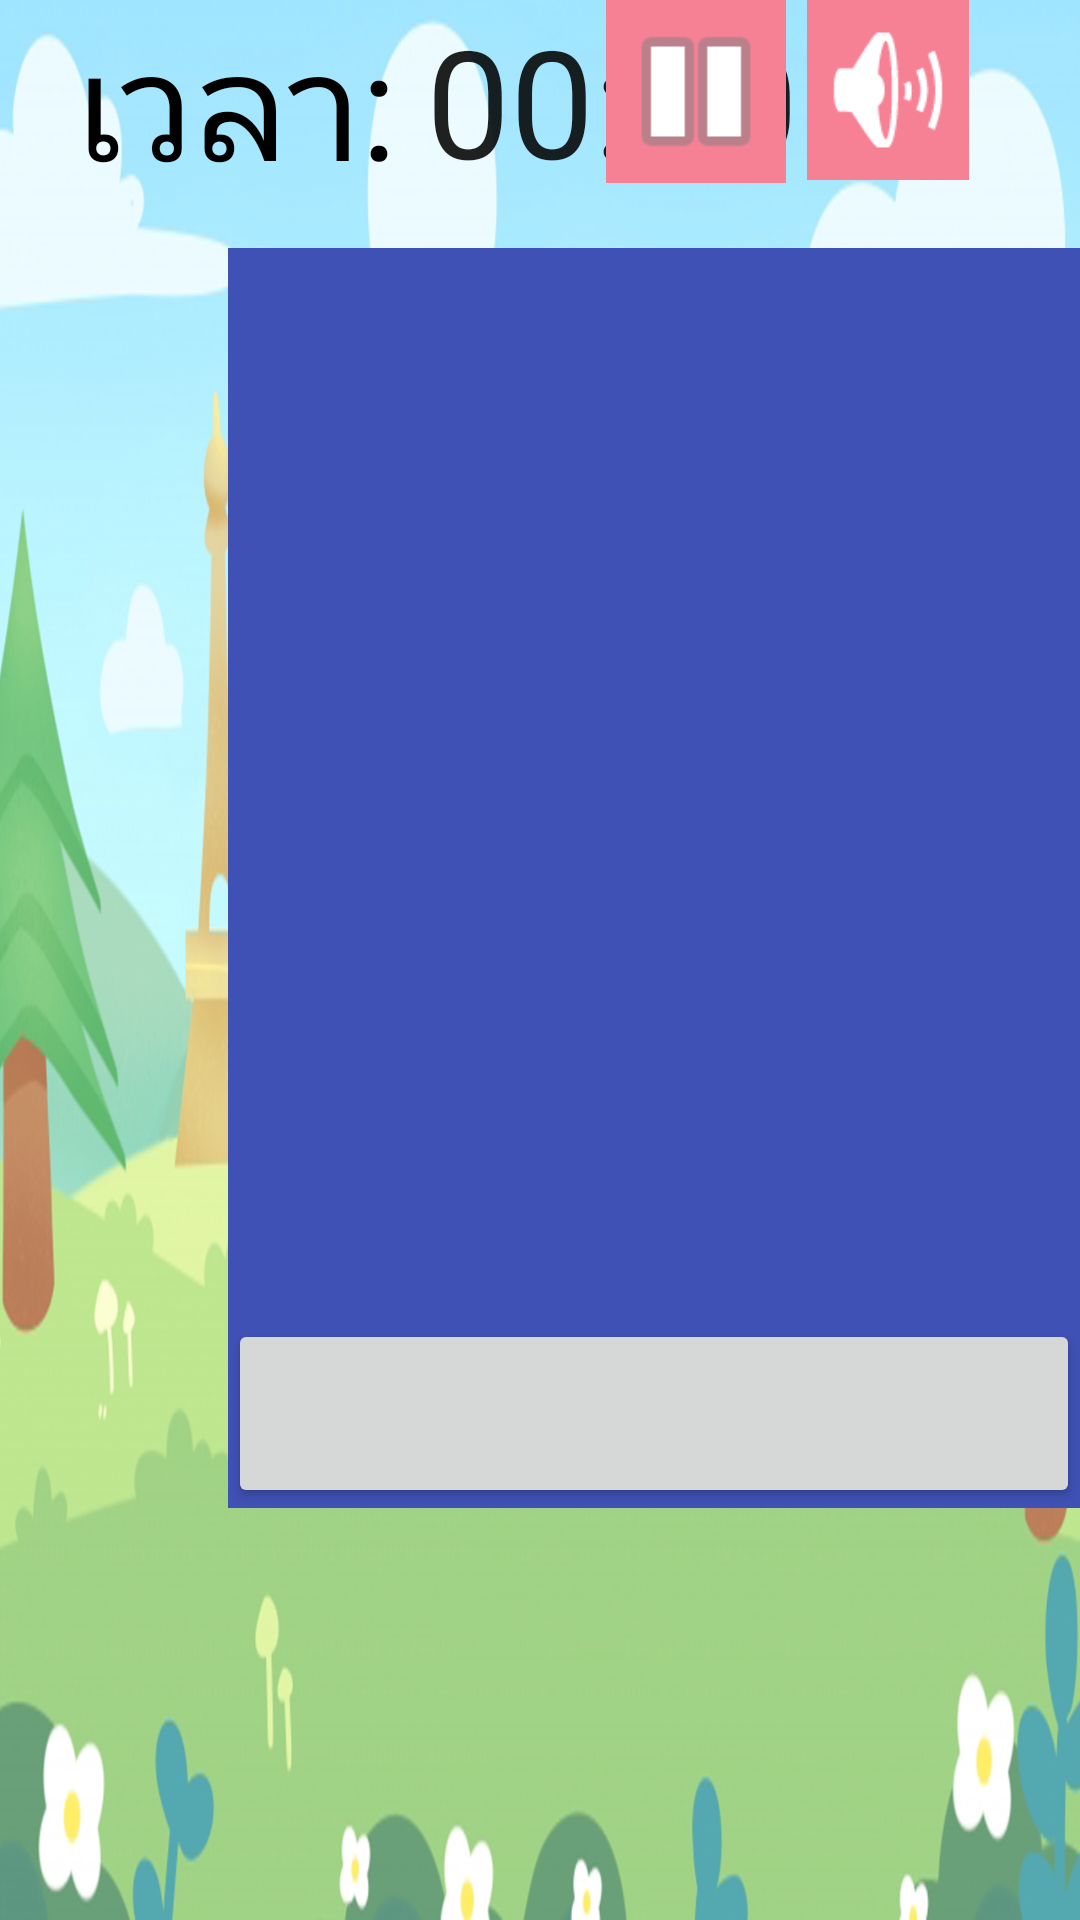

Where icons sit on this 1080x1920 app screen, as bbox=(x1, y1, x2, y2):
lock silent mode off: bbox=(807, 0, 969, 180)
pause: bbox=(606, 0, 786, 183)
